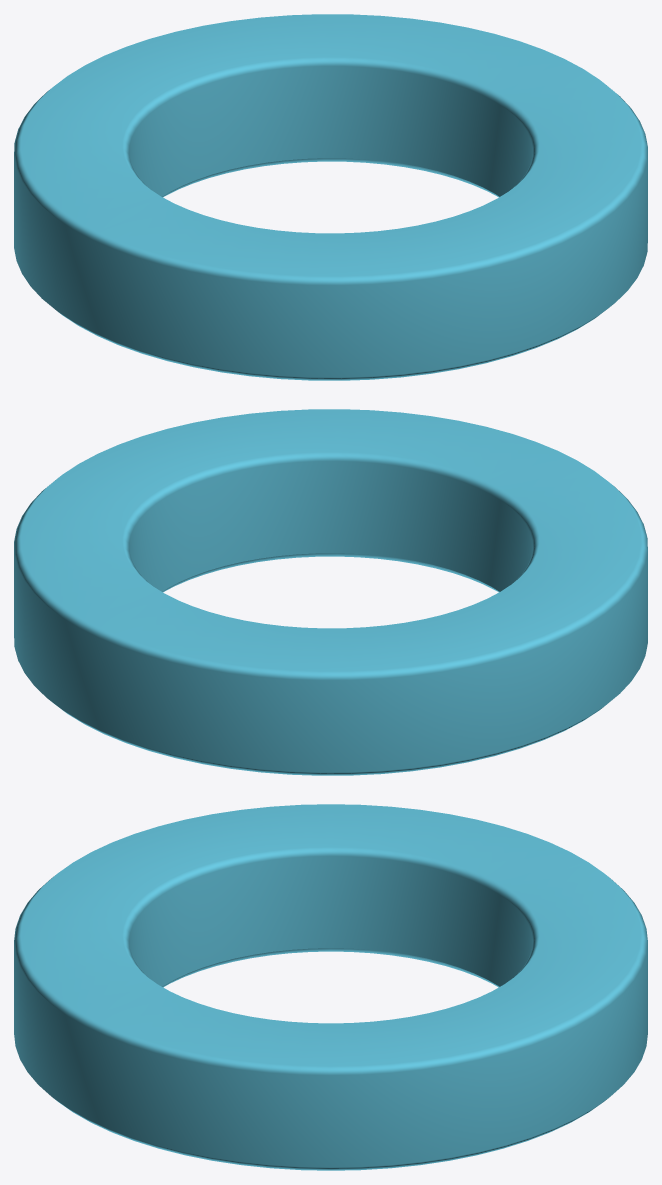
3 views of the same model, one above another, from view 1: azimuth 30°, elevation 25°; view 2: azimuth 150°, elevation 25°; view 3: azimuth 270°, elevation 25° (orthographic).
Parts seen in each view (by area): view 1: seal_body; view 2: seal_body; view 3: seal_body.
Boxes of the visible parts, bbox=[...] form: seal_body: bbox=[14, 14, 647, 380]; seal_body: bbox=[14, 409, 647, 775]; seal_body: bbox=[14, 804, 647, 1170].
Bounding box in the file's own units: 0.0349 × 0.00635 × 0.0349.
